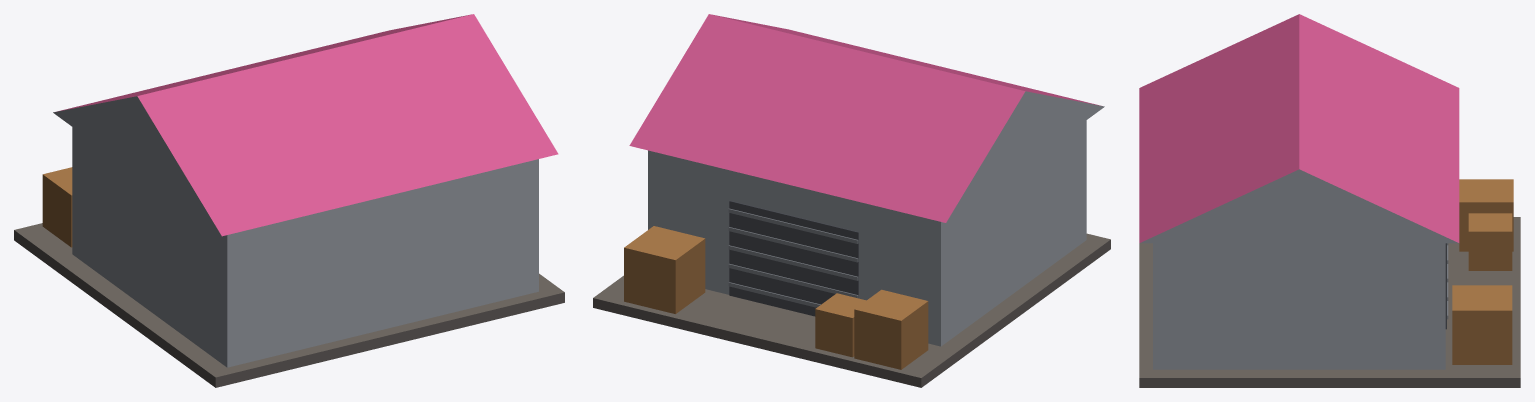
The model's file is warehouse.glb.
The picture shows the model from 3 angles, left to right: view 1: azimuth 30°, elevation 25°; view 2: azimuth 150°, elevation 25°; view 3: azimuth 270°, elevation 25°; orthographic projection. The views are drawn at different scales.
Parts seen in each view (by area): view 1: warehouse; view 2: warehouse; view 3: warehouse.
Part boxes in pixels (x1,y1,x2,y2): warehouse: (14,14,564,387); warehouse: (593,14,1110,387); warehouse: (1139,14,1520,387).
Size of the model in its own units: 2.8 by 1.75 by 2.8.
